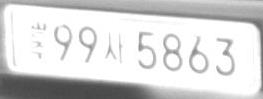3: (214, 37, 235, 76)
5: (136, 31, 157, 69)
6: (187, 36, 209, 74)
8: (162, 32, 183, 72)
9: (77, 25, 98, 63), (53, 23, 73, 61)
광주_V: (30, 17, 51, 59)
사: (103, 31, 124, 65)
